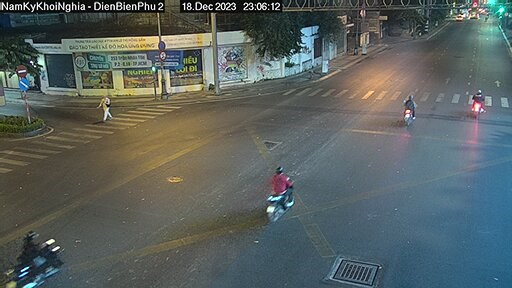motorbike: (7, 233, 65, 288), (256, 168, 297, 224), (399, 83, 427, 127), (459, 87, 492, 118)
